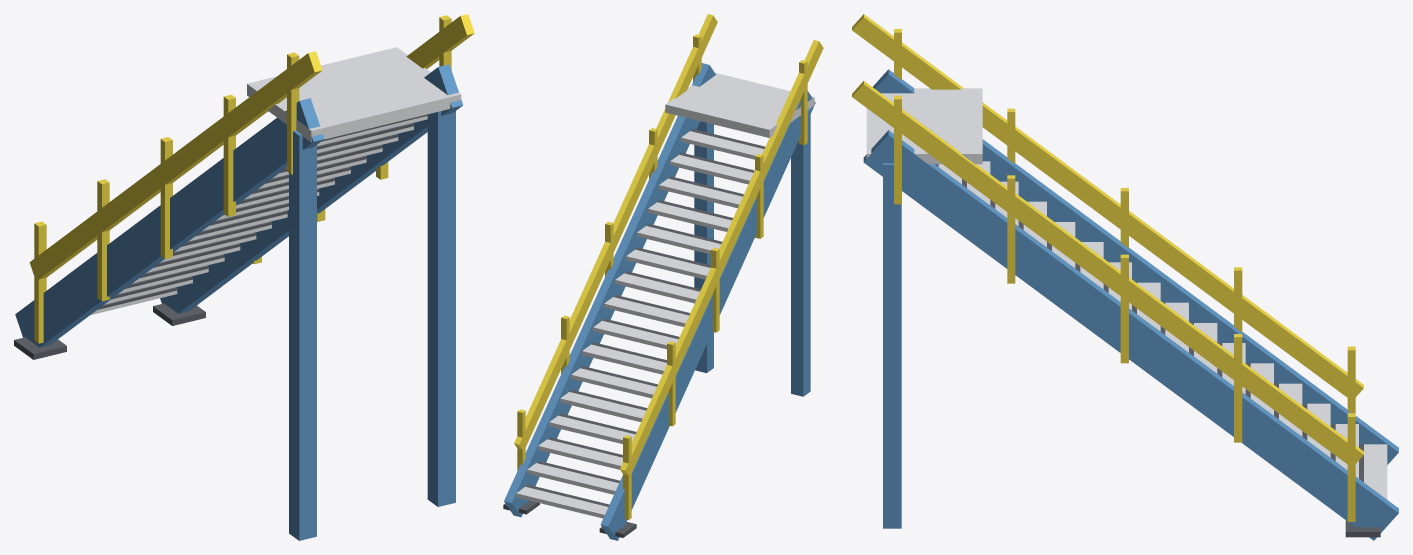
Rendered from mezzanine-stair.glb.
The picture shows the model from 3 angles, left to right: view 1: azimuth 30°, elevation 25°; view 2: azimuth 150°, elevation 25°; view 3: azimuth 270°, elevation 25°; orthographic projection. The views are drawn at different scales.
Parts seen in each view (by area): view 1: mezzanine-stair; view 2: mezzanine-stair; view 3: mezzanine-stair.
Boxes of the visible parts, x1=… form: mezzanine-stair: x1=14, y1=14, x2=474, y2=540; mezzanine-stair: x1=503, y1=14, x2=823, y2=540; mezzanine-stair: x1=852, y1=14, x2=1398, y2=540.
Size of the model in its own units: 1.54 by 4.37 by 4.71.
